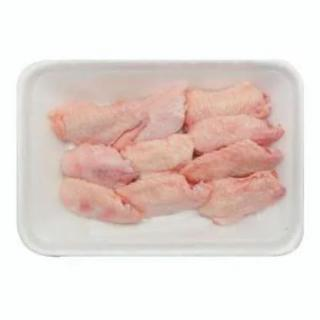Ayam: (51, 84, 290, 232), (183, 141, 293, 182), (62, 176, 144, 230), (52, 100, 147, 146), (118, 173, 212, 219), (201, 180, 289, 229), (62, 144, 137, 190), (188, 88, 272, 126), (191, 119, 285, 151), (120, 140, 196, 177)
